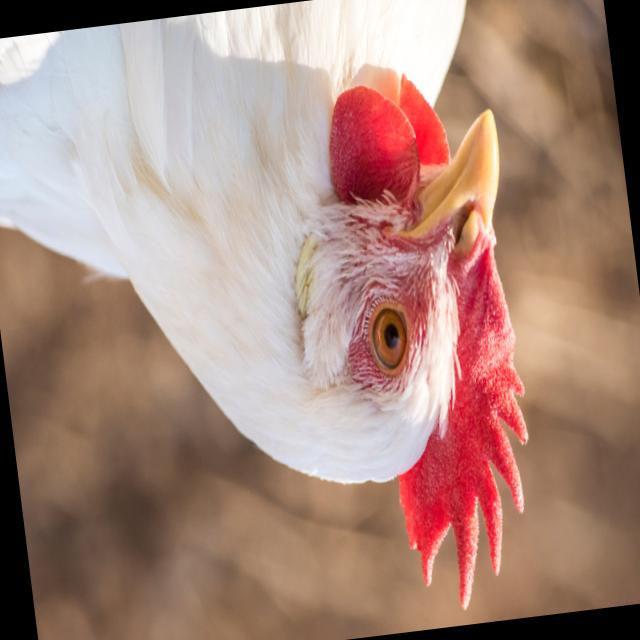Healthy: (0, 0, 553, 640)
